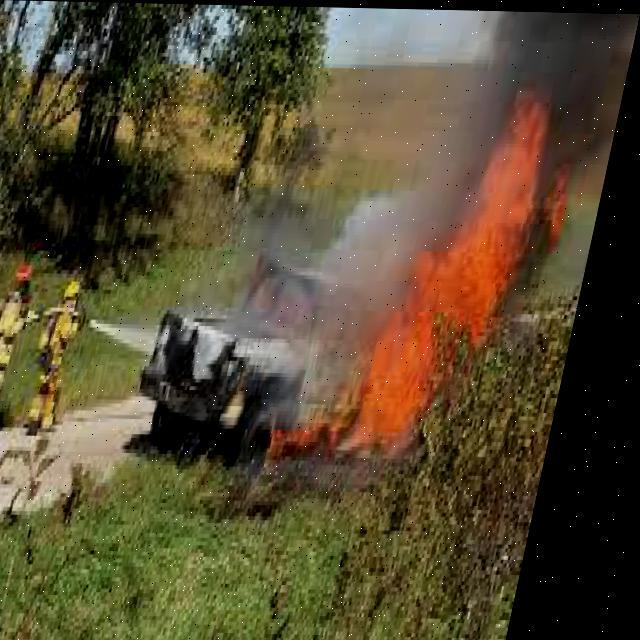Fire: (424, 72, 612, 342), (237, 254, 432, 479)
